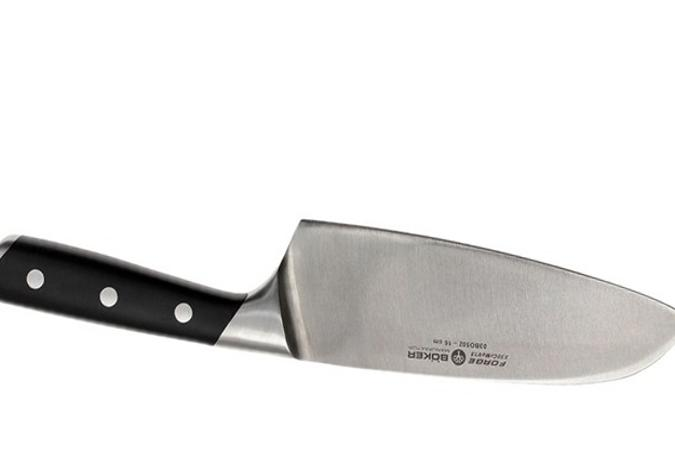knife: (2, 219, 675, 382)
